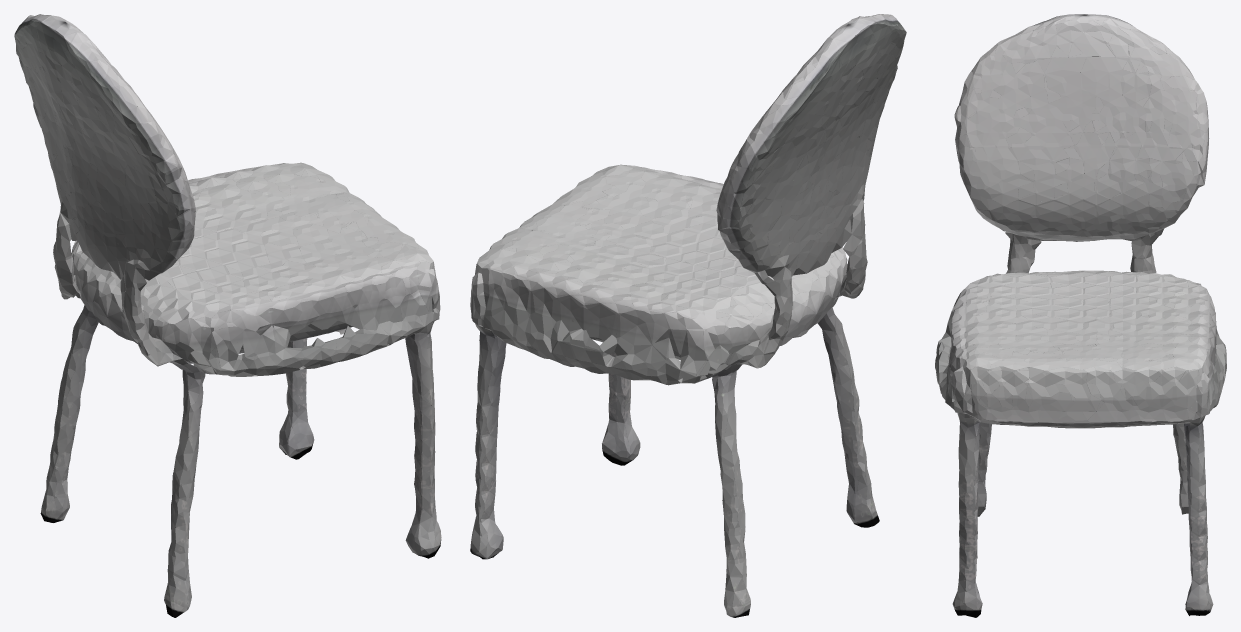
File: elem_94_131_206_213_9_0.obj
The picture shows the model from 3 angles, left to right: view 1: azimuth 30°, elevation 25°; view 2: azimuth 150°, elevation 25°; view 3: azimuth 270°, elevation 25°; orthographic projection. The views are drawn at different scales.
Size of the model in its own units: 0.446 by 0.7145 by 0.3945.
Materials: 1 (1 with a texture image).
